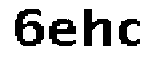6: (5, 1, 46, 52)
c: (115, 16, 145, 52)
e: (47, 18, 81, 51)
h: (77, 5, 116, 53)
